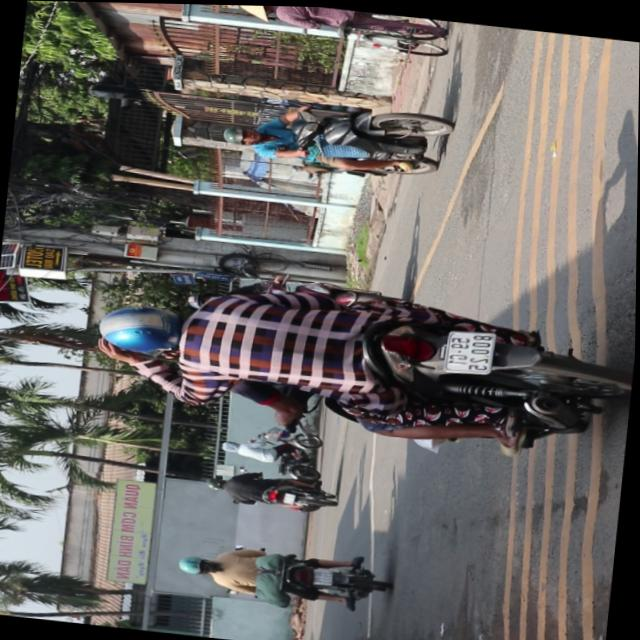helmet: (93, 296, 190, 358), (221, 120, 261, 144), (176, 550, 215, 573)
licenseplate: (86, 254, 637, 469), (216, 86, 457, 184), (175, 533, 393, 611)
nohelmet: (445, 324, 494, 371), (315, 565, 334, 583)
